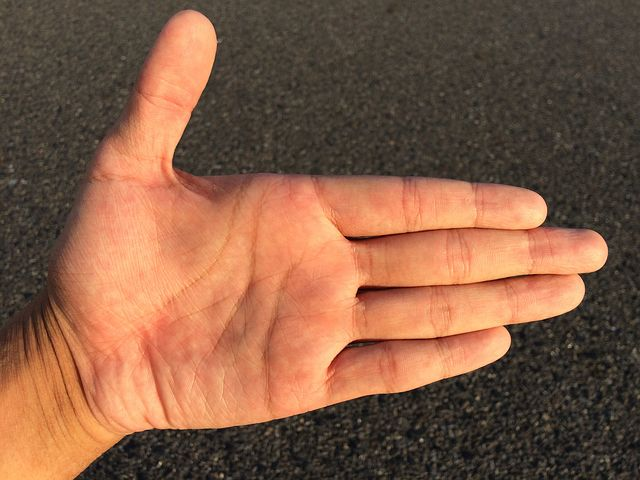palmhand: (57, 166, 609, 428)
